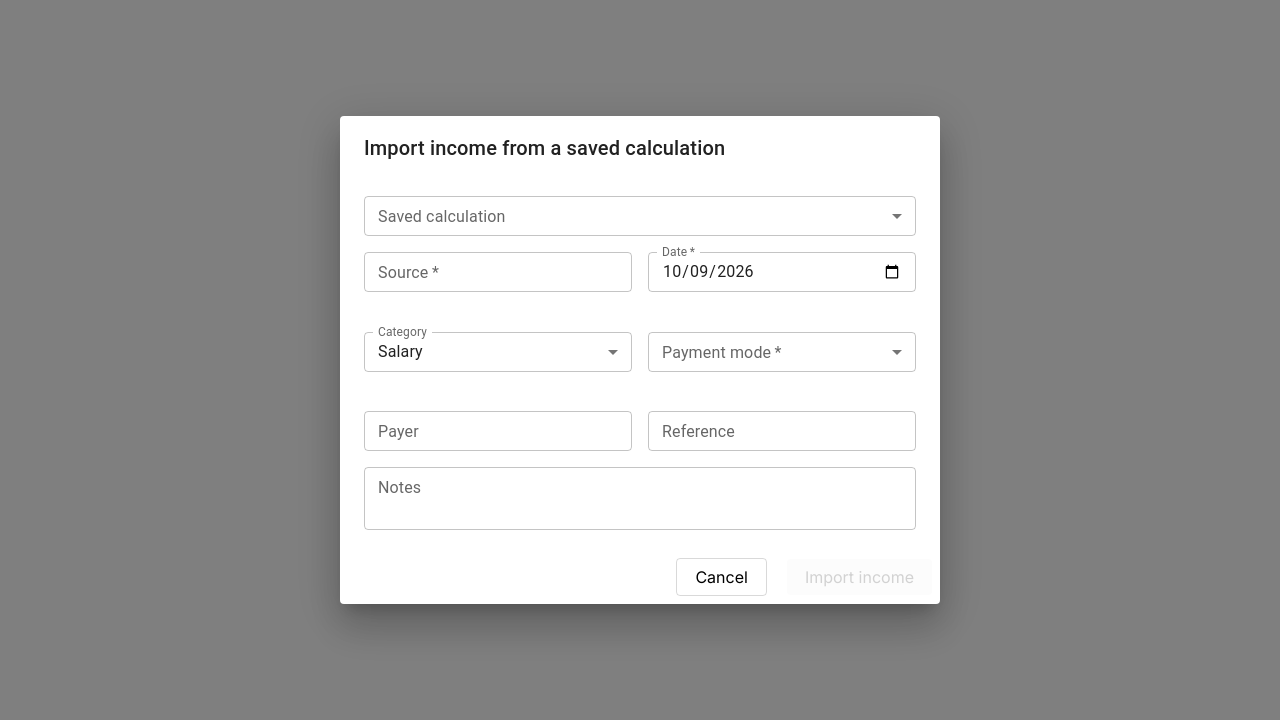
Test: importing an income › shows the scenario's figures, and asks for none of them
Click the 1st dropdown named "Saved calculation".
click(640, 216)  # box x1=364 y1=196 x2=916 y2=236
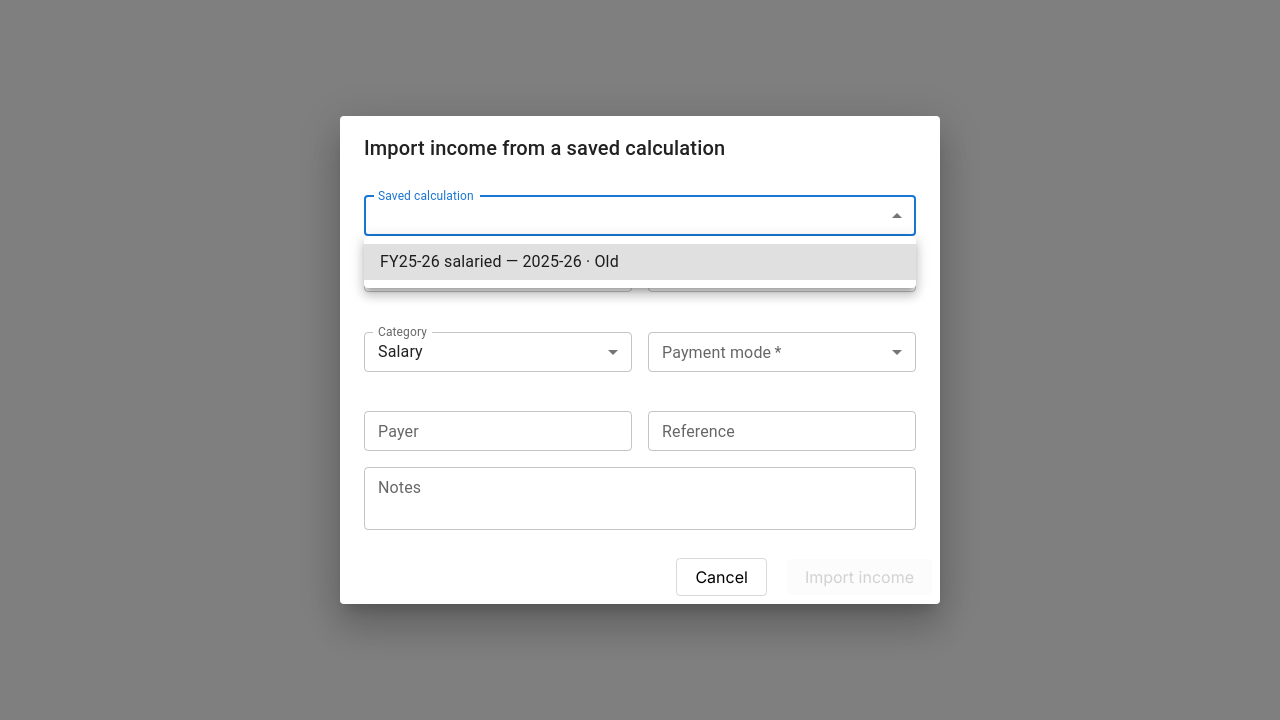
Click the option "FY25-26 salaried — 2025-26 · Old".
click(499, 262)  # box x1=364 y1=244 x2=916 y2=280
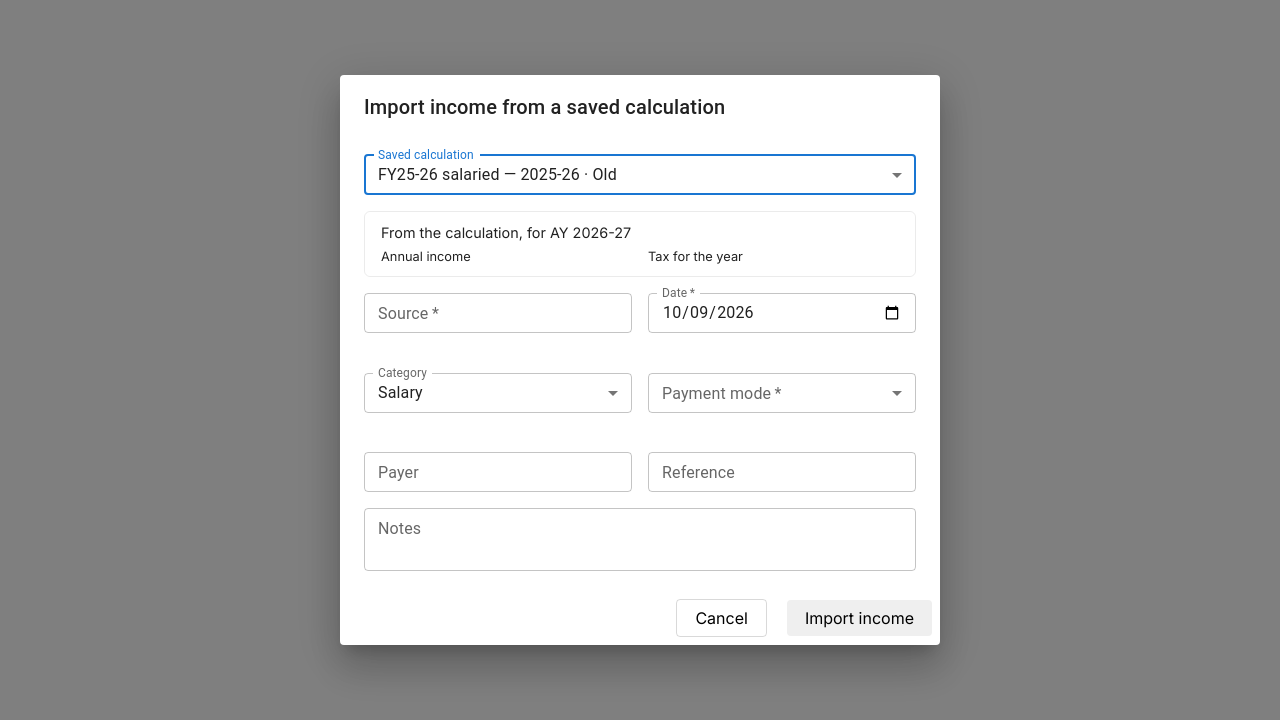
Result: the text "Annual income" is shown at x1=381 y1=249 x2=471 y2=264
Result: the text "Tax for the year" is shown at x1=648 y1=249 x2=743 y2=264
